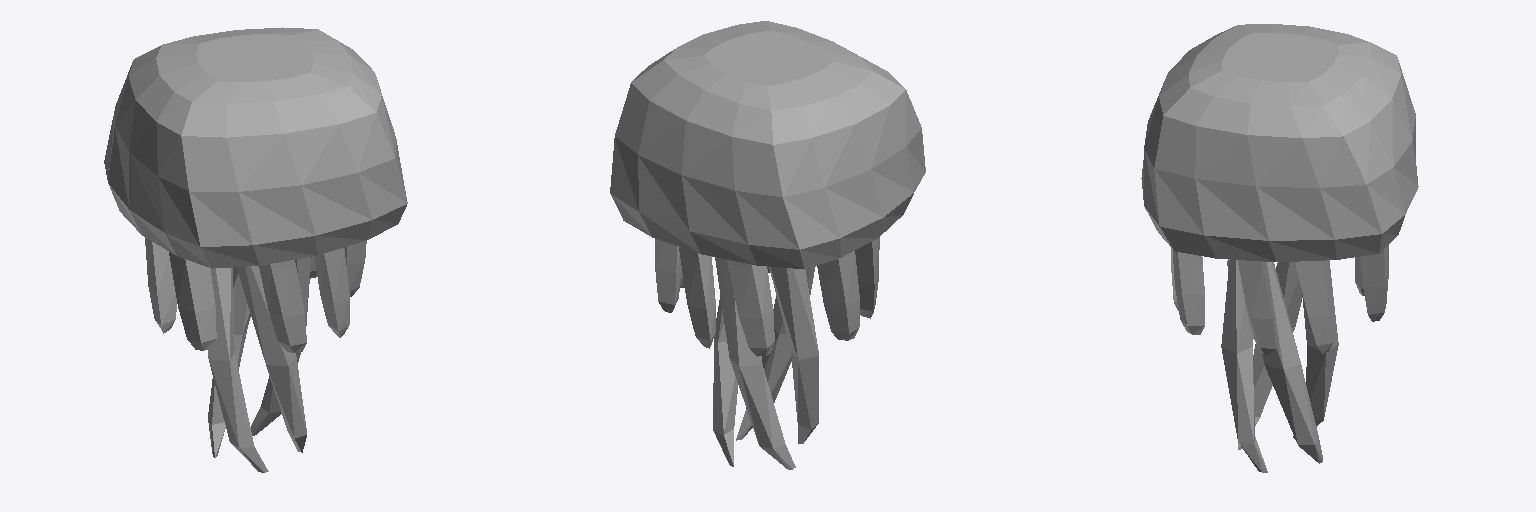
Rendered from jelly-fish.obj.
3 renders of one model, left to right at view 1: azimuth 30°, elevation 25°; view 2: azimuth 150°, elevation 25°; view 3: azimuth 270°, elevation 25°, orthographic.
Parts seen in each view (by area): view 1: Box; view 2: Box; view 3: Box.
Boxes of the visible parts, <box> form: Box: <box>104,27,407,472</box>; Box: <box>610,21,925,469</box>; Box: <box>1141,24,1418,472</box>.
Size of the model in its own units: 1.11 by 1.73 by 1.09.